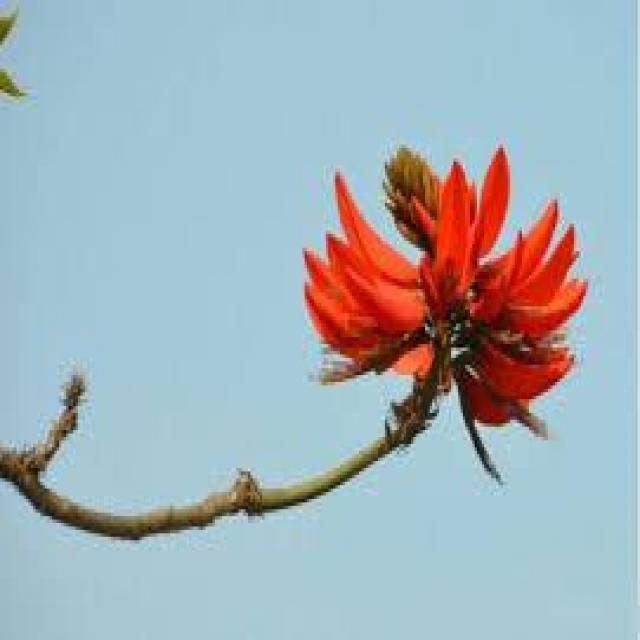organic waste: (295, 129, 595, 494)
